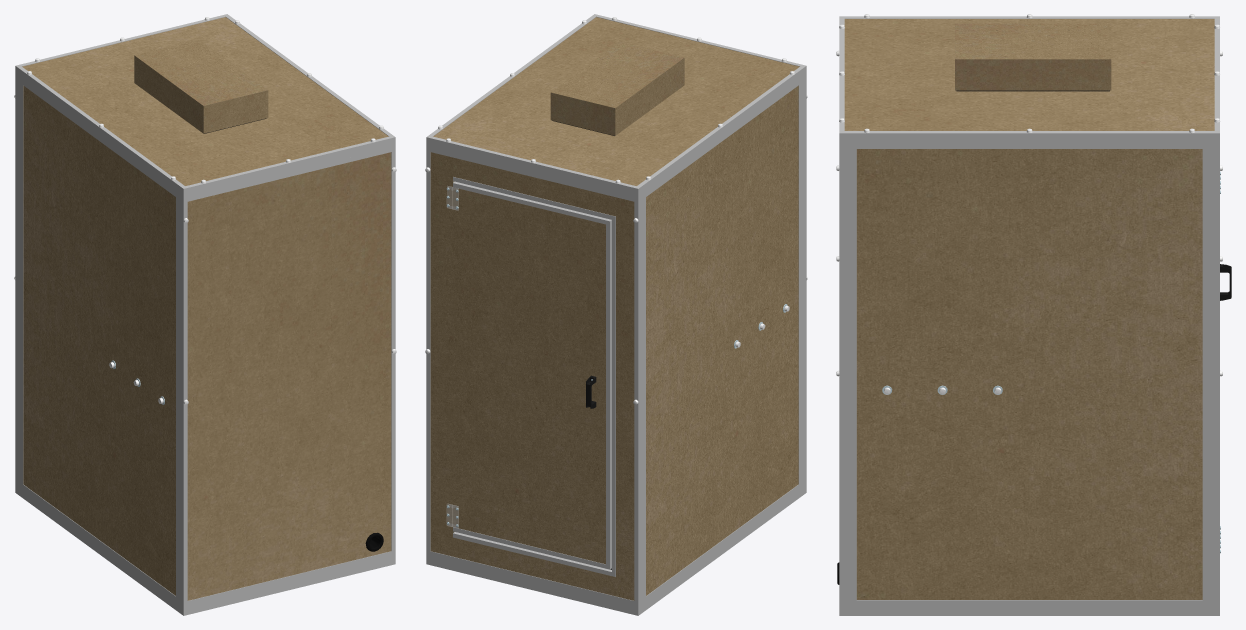
The model's file is danbocchi-v6stl_m2-lowply_joint.fbx.
3 renders of one model, left to right at view 1: azimuth 30°, elevation 25°; view 2: azimuth 150°, elevation 25°; view 3: azimuth 270°, elevation 25°, orthographic. The views are drawn at different scales.
Visible parts, largest first — view 1: d6 RearPanel, d6 RightPanel, d6 RoofPanel, d6 Silencer, d6 FloorPanel, d6 FrontPanel; view 2: d6 RightPanel, d6 DoorPlate, d6 FrontPanel, d6 RoofPanel, d6 Silencer, d6 FloorPanel, d6 RearPanel; view 3: d6 LeftPanel, d6 RoofPanel, d6 Silencer, d6 RearPanel, d6 FrontPanel, d6 FloorPanel.
Part boxes in pixels (<box>): d6 RearPanel: <box>178,147,396,606</box>; d6 RightPanel: <box>20,79,178,601</box>; d6 RoofPanel: <box>15,14,395,198</box>; d6 Silencer: <box>134,39,268,133</box>; d6 FloorPanel: <box>15,483,395,615</box>; d6 FrontPanel: <box>14,75,20,486</box>; d6 RightPanel: <box>643,79,801,601</box>; d6 DoorPlate: <box>453,181,611,569</box>; d6 FrontPanel: <box>425,147,643,606</box>; d6 RoofPanel: <box>426,14,806,198</box>; d6 Silencer: <box>550,42,684,135</box>; d6 FloorPanel: <box>426,483,806,615</box>; d6 RearPanel: <box>801,75,807,486</box>; d6 LeftPanel: <box>851,144,1207,604</box>; d6 RoofPanel: <box>839,14,1220,144</box>; d6 Silencer: <box>955,23,1111,91</box>; d6 RearPanel: <box>836,50,851,604</box>; d6 FrontPanel: <box>1207,50,1222,604</box>; d6 FloorPanel: <box>839,605,1219,615</box>.
Bounding box in the file's own units: 142 × 283 × 197.
